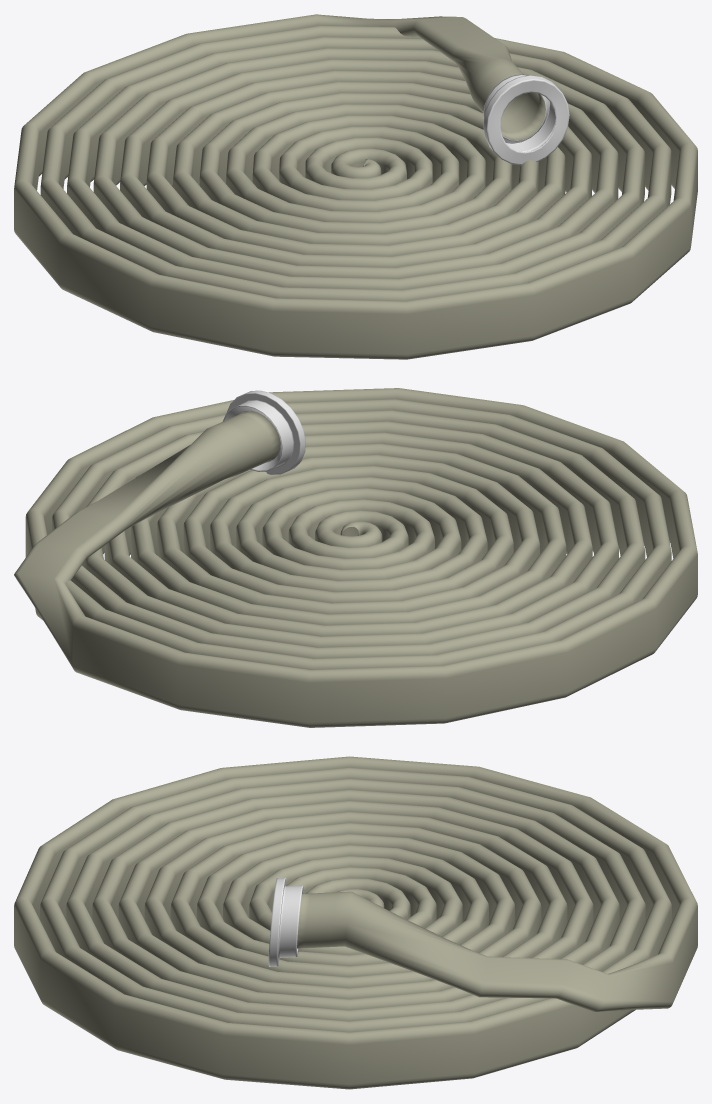
Rendered from P_Manguera.fbx.
3 renders of one model, top to bottom at view 1: azimuth 30°, elevation 25°; view 2: azimuth 150°, elevation 25°; view 3: azimuth 270°, elevation 25°, orthographic. The views are drawn at different scales.
Visible parts, largest first — view 1: Manguera; view 2: Manguera; view 3: Manguera.
Boxes of the visible parts, x1,y1,x2,y2 form: Manguera: [14, 14, 697, 359]; Manguera: [14, 388, 697, 727]; Manguera: [14, 756, 697, 1089].
Size of the model in its own units: 193 by 41.82 by 196.
